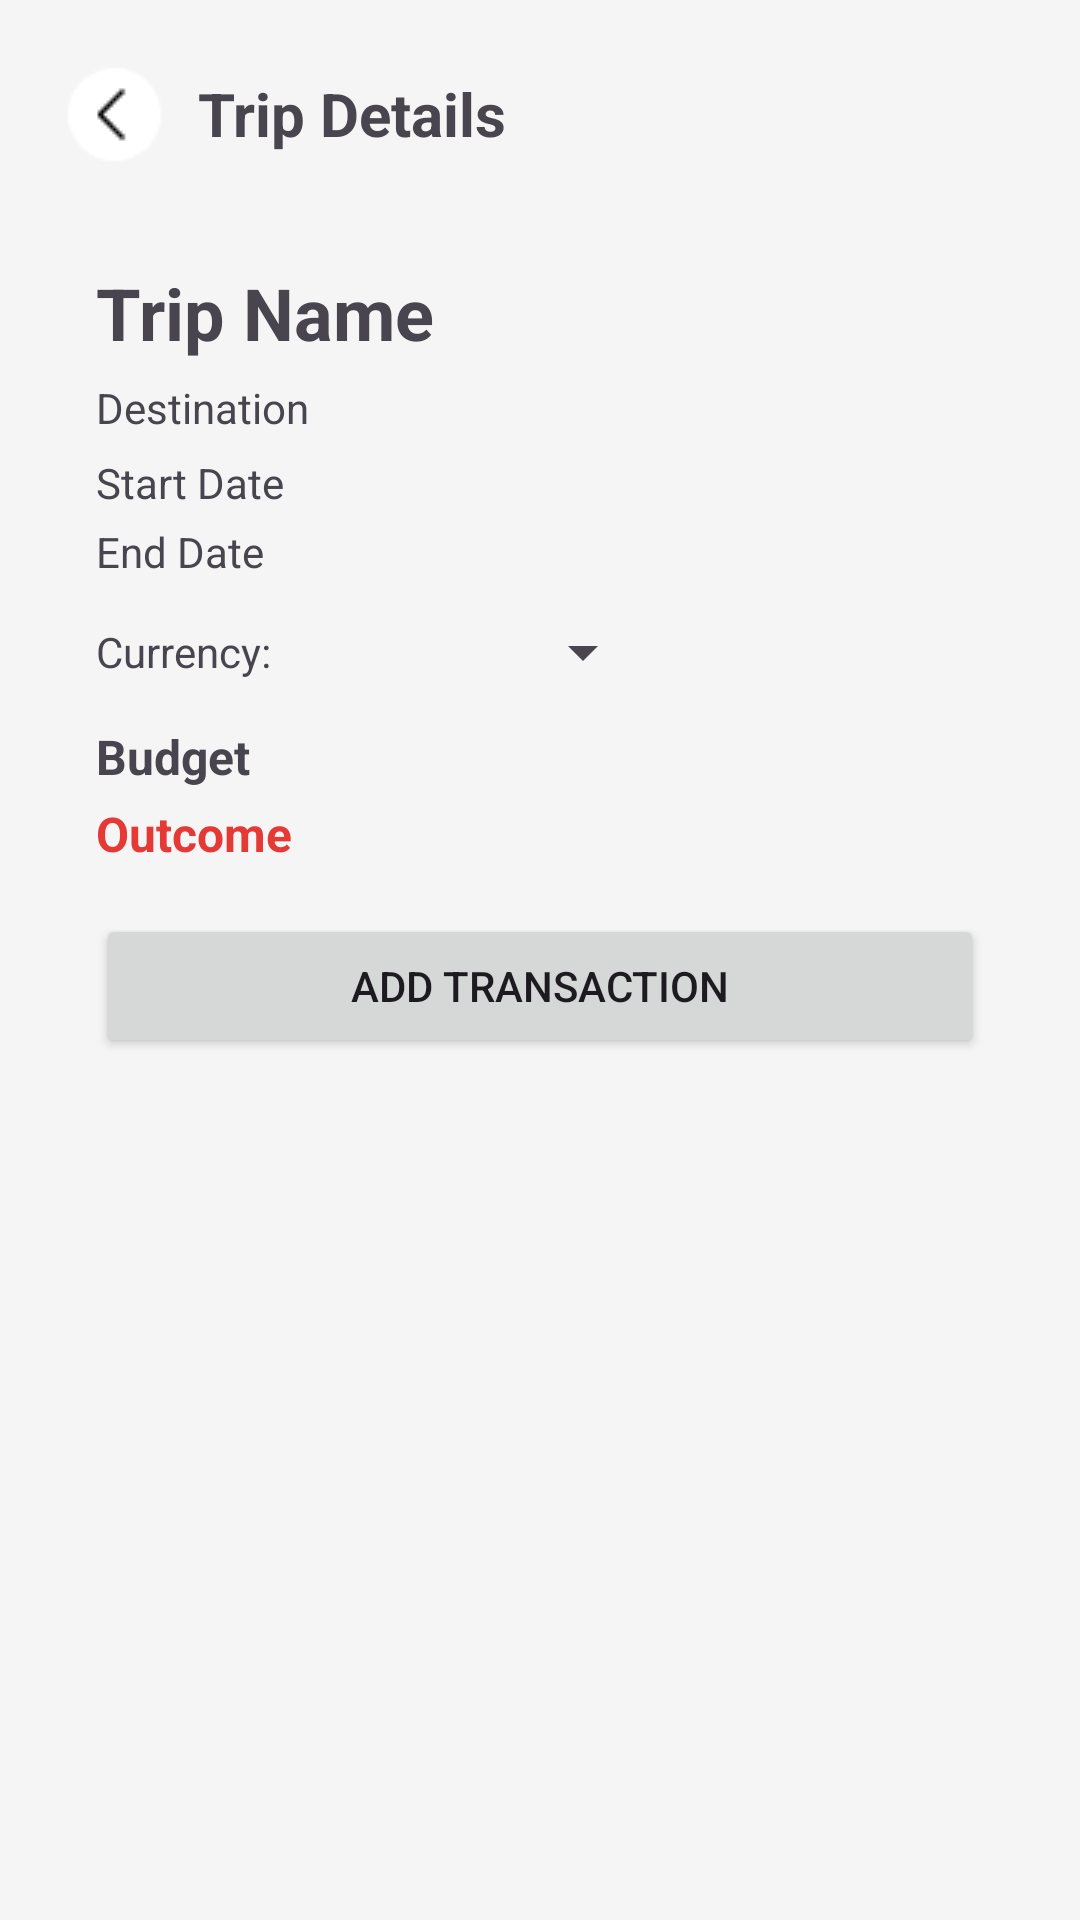

Icons on this 1080x1920 Android screen, each with its box as {"left": x1, "top": y1, "right": x2, "bottom": y2}:
back: {"left": 69, "top": 69, "right": 160, "bottom": 160}
